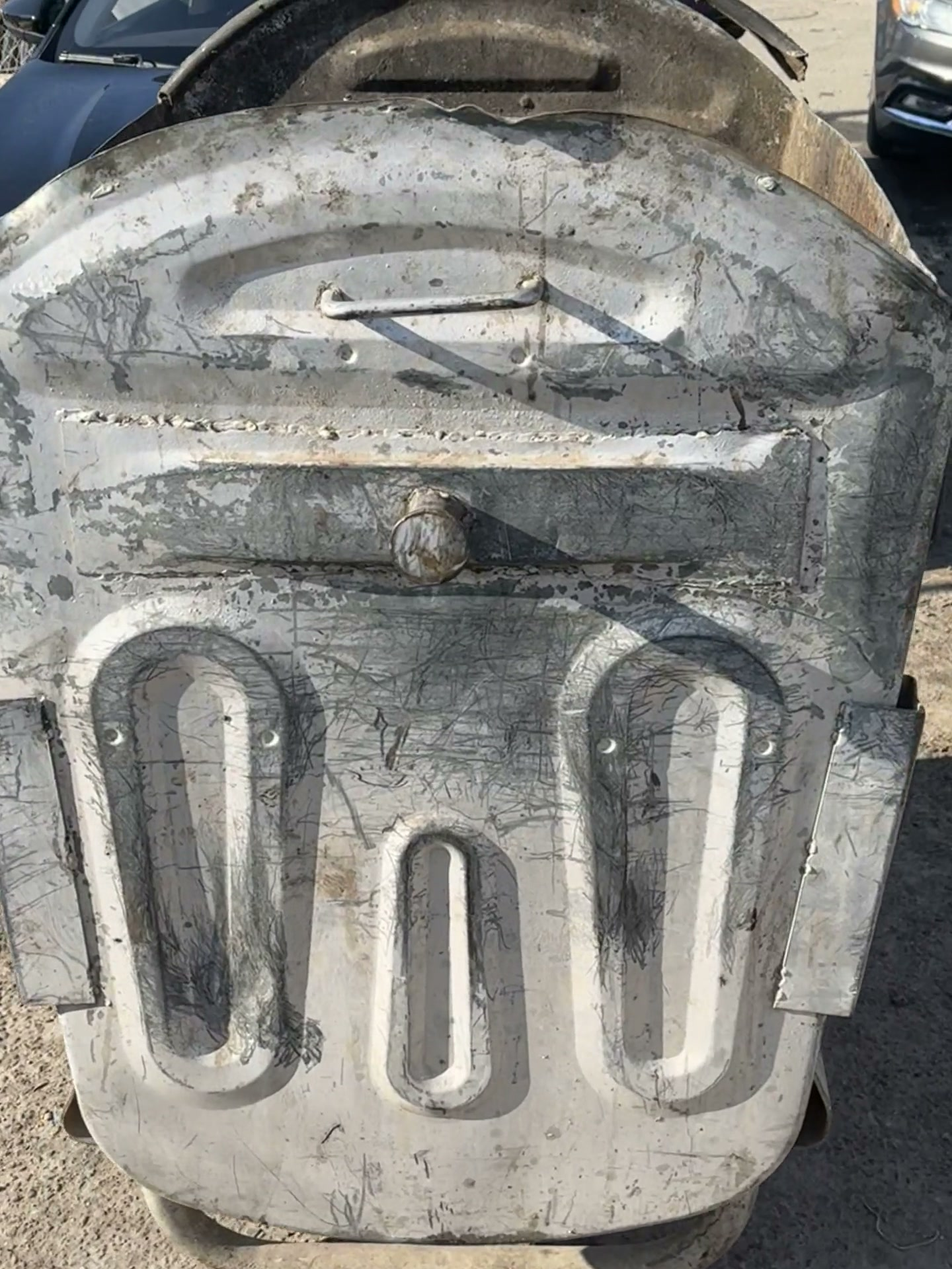trash_container: (9, 65, 915, 1250)
